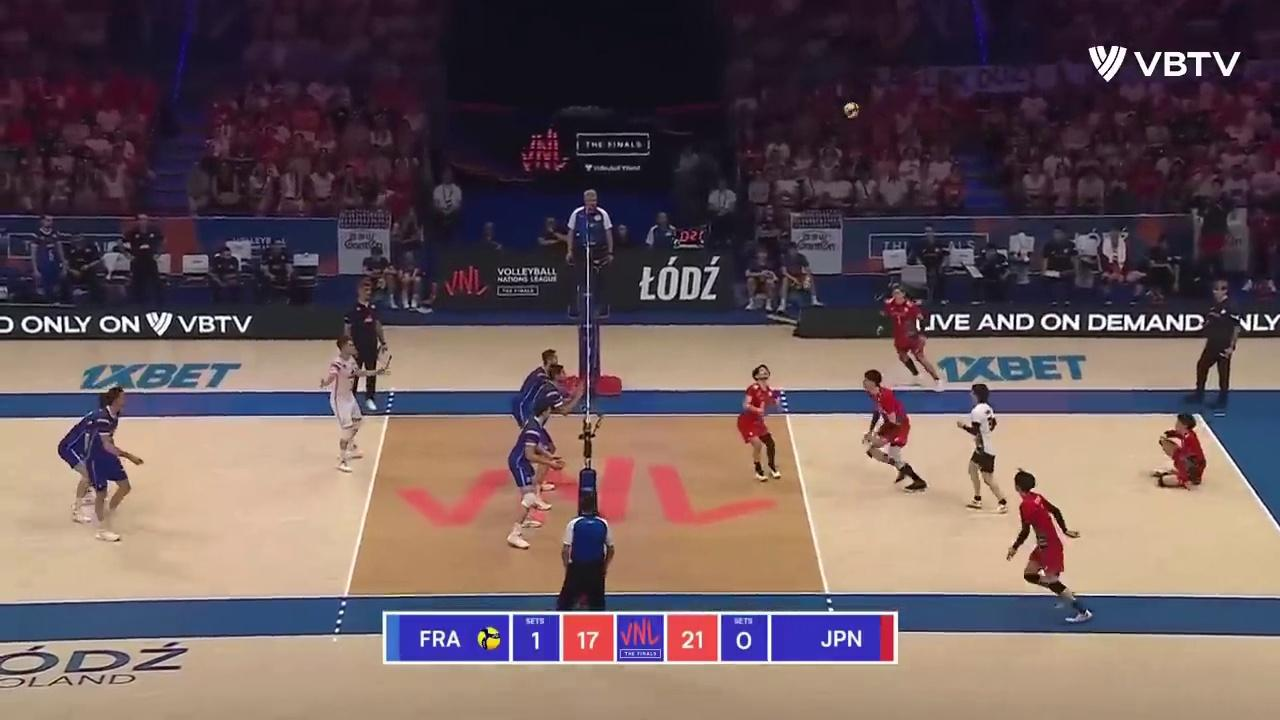ball: (843, 100, 861, 119)
